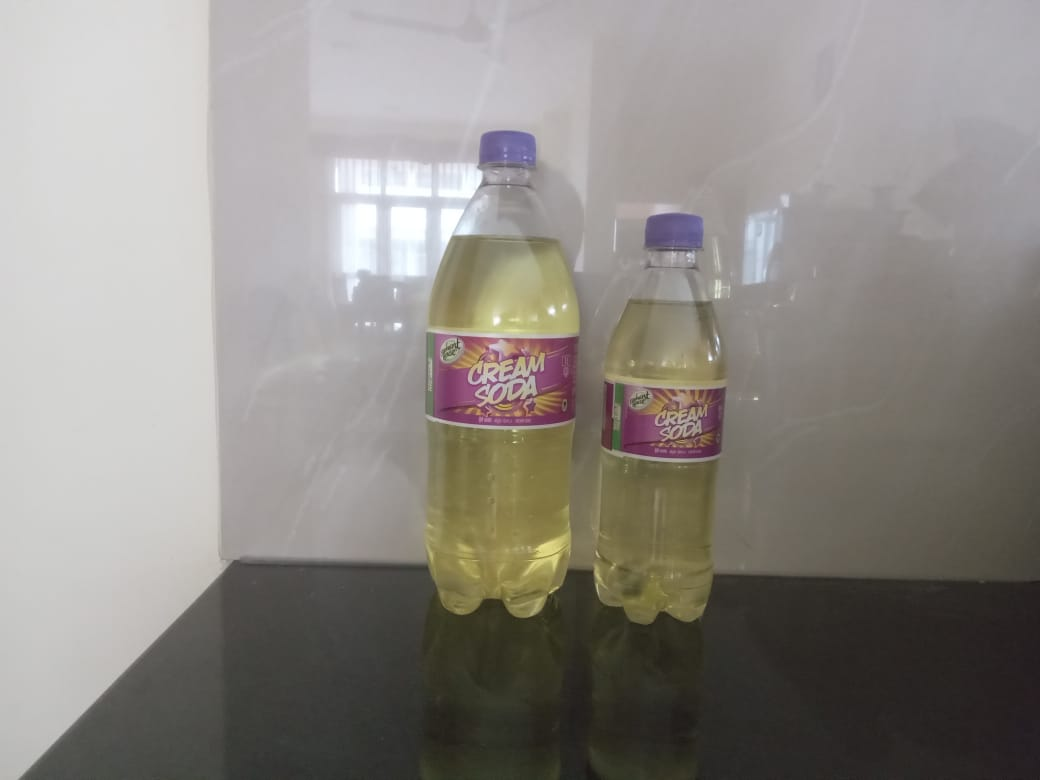M: (411, 126, 595, 635)
S: (588, 207, 732, 646)
